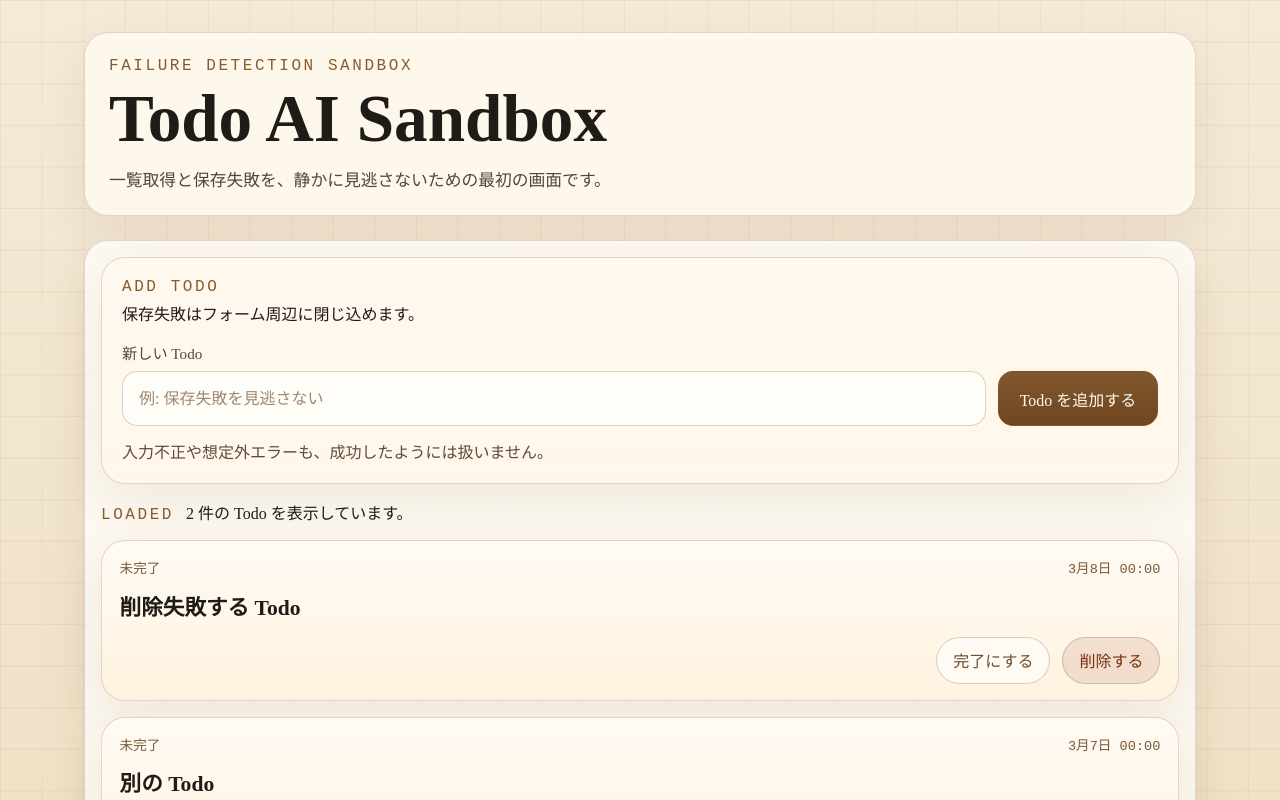
Test: App › 削除が 5xx で失敗したときも成功したように見せず、ダイアログに閉じ込める
Expected: the heading "削除失敗する Todo" is shown, [120,596,301,620]
Click the button "削除する": {"x": 1111, "y": 660} [1062,637,1160,684]
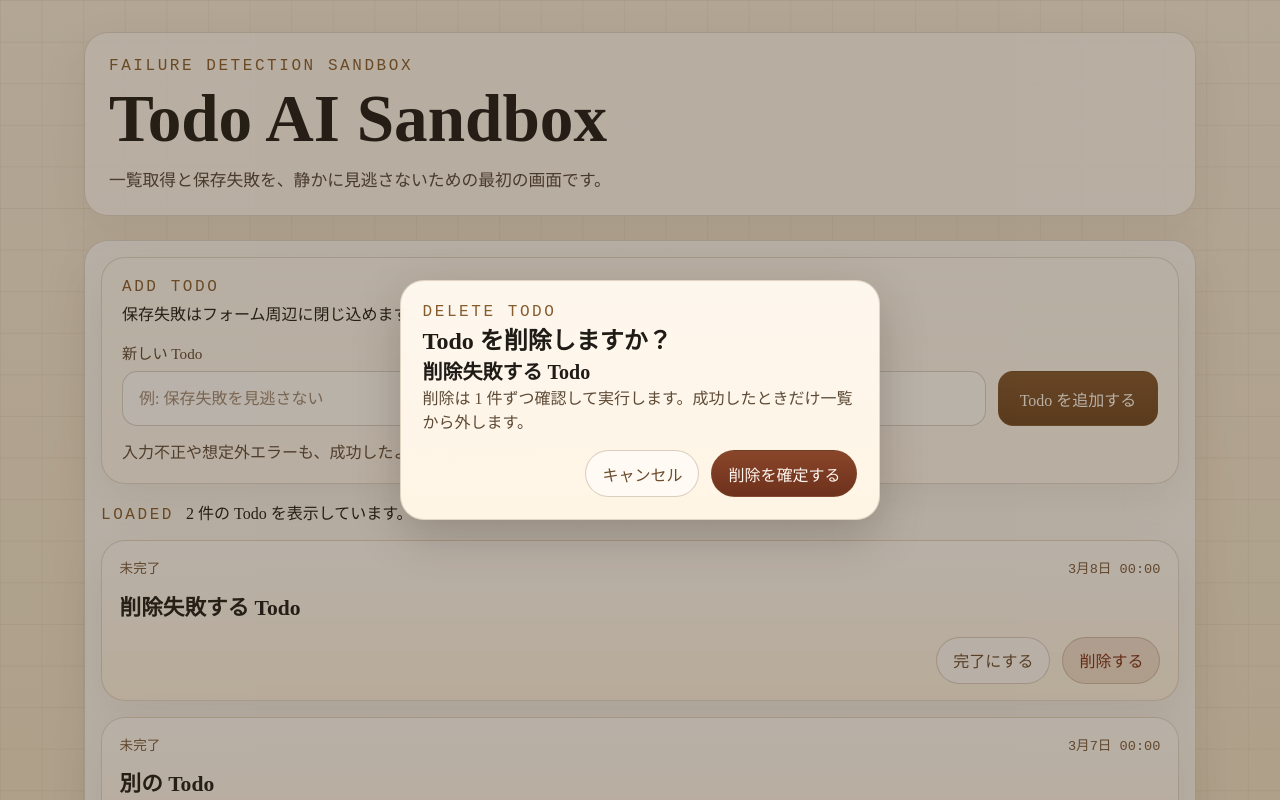
Click the button "削除を確定する": {"x": 784, "y": 474} [711,450,857,497]
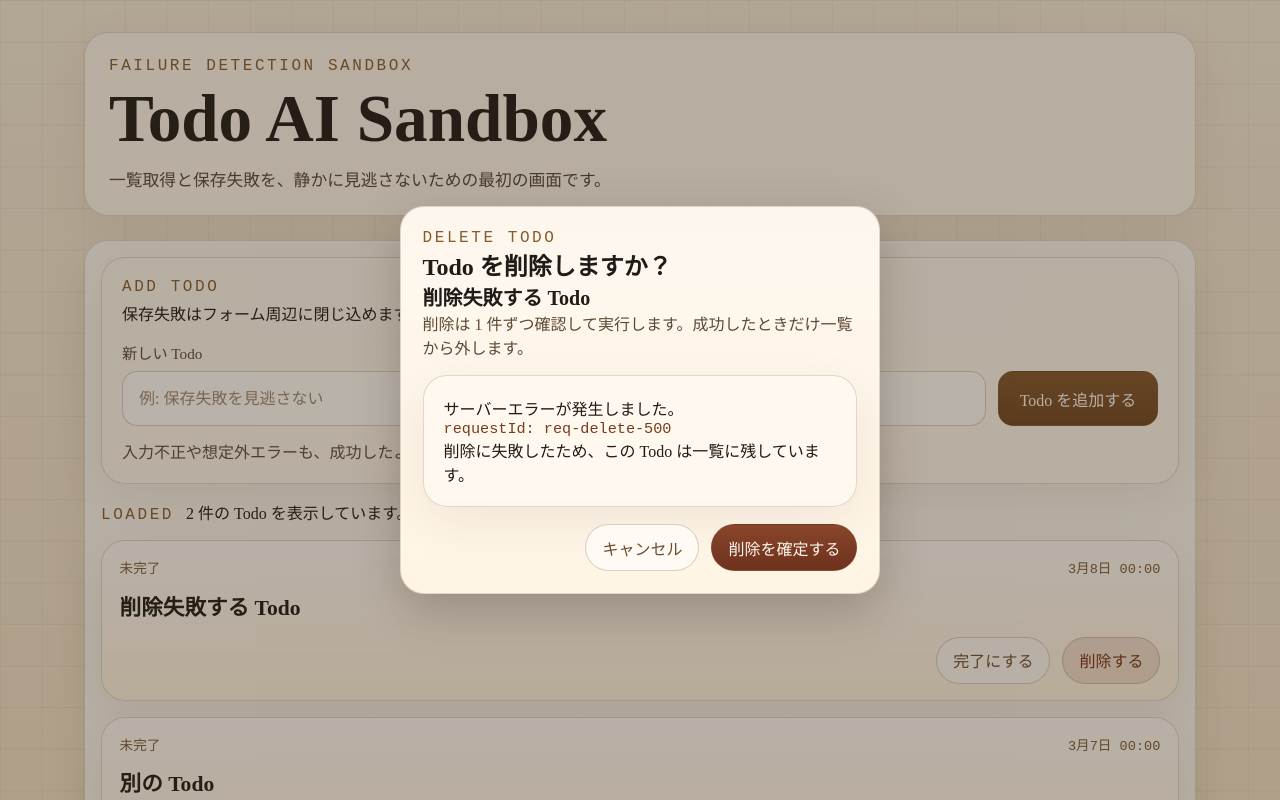
Expected: the heading "削除失敗する Todo" is shown, [120,596,301,620]
Expected: the text "サーバーエラーが発生しました。" is shown, [444,401,683,418]
Expected: the text "requestId: req-delete-500" is shown, [444,420,672,438]
